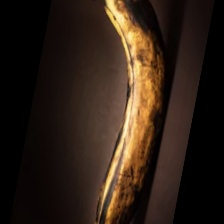banana: (23, 37, 170, 173)
